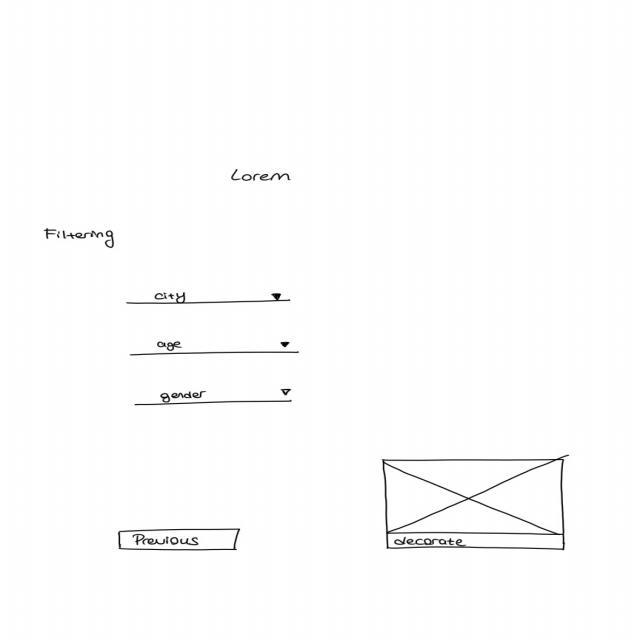button: (382, 532, 569, 551), (118, 528, 242, 554)
image: (382, 458, 568, 537)
label: (43, 228, 117, 251), (229, 170, 294, 185)
select: (134, 387, 295, 410), (130, 339, 301, 360), (124, 290, 293, 308)
